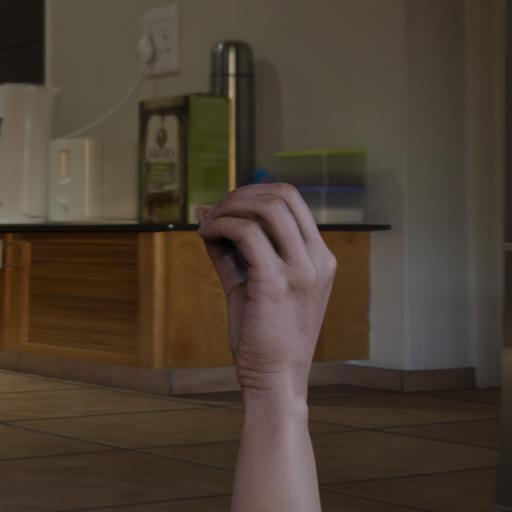O: (164, 156, 360, 511)
